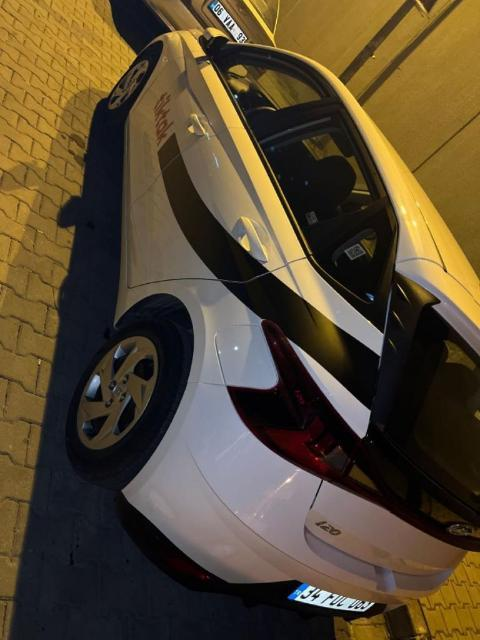dent: (149, 489, 179, 520), (208, 536, 238, 558)
